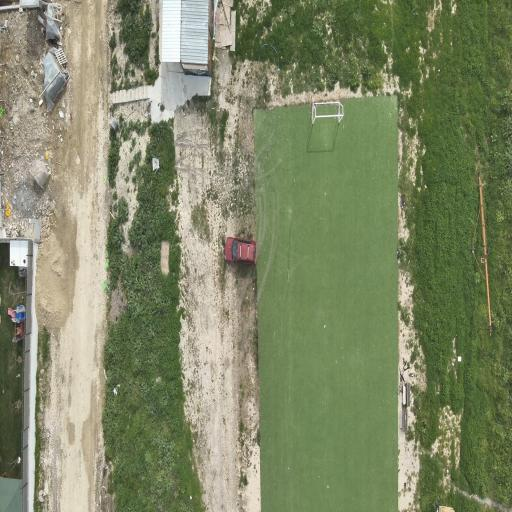car: (225, 238, 256, 265)
